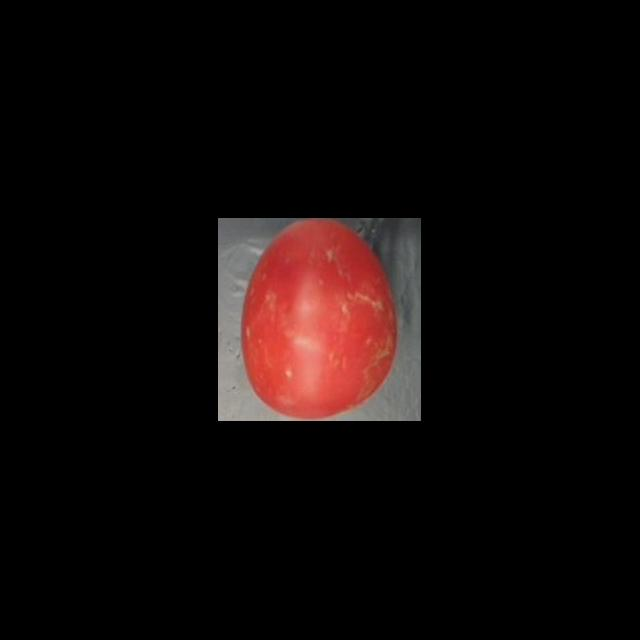tomato: (233, 218, 404, 422)
